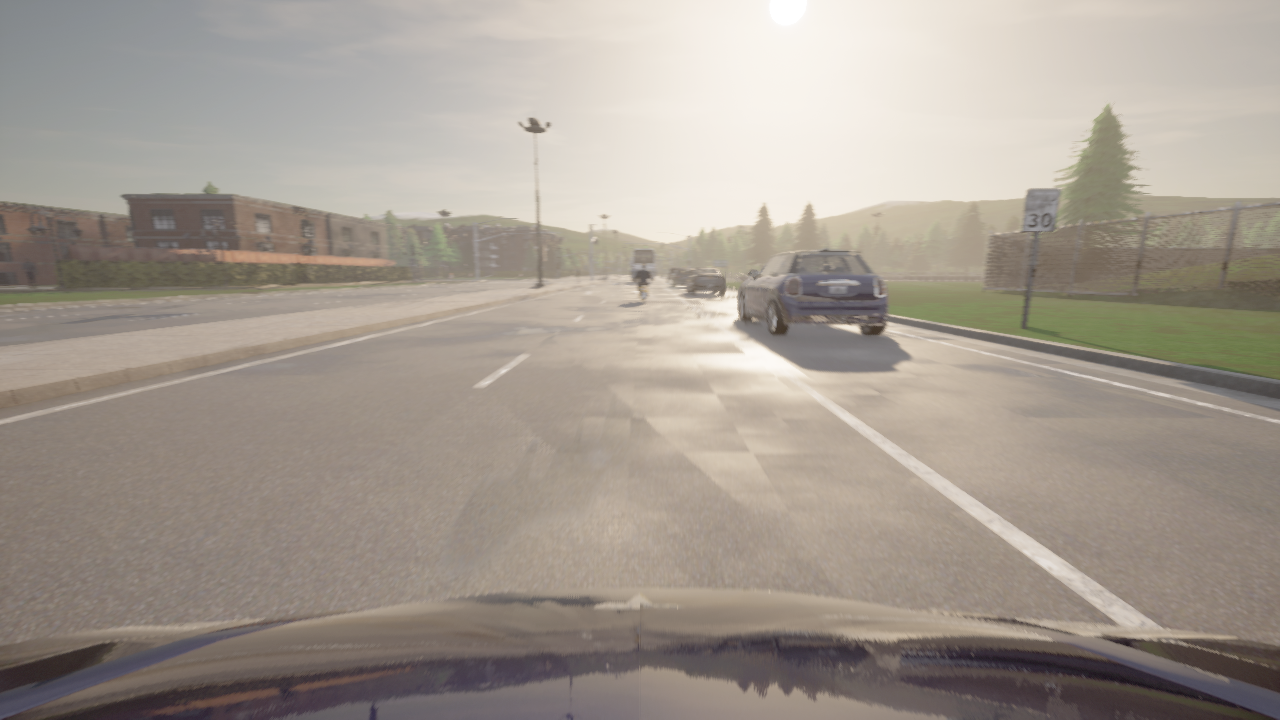cyclist: (0, 588, 1279, 719), (738, 244, 887, 335), (686, 268, 725, 294), (634, 273, 653, 302), (631, 252, 656, 272), (671, 268, 693, 287), (666, 268, 677, 283)
pedestrian: (21, 258, 38, 287)
